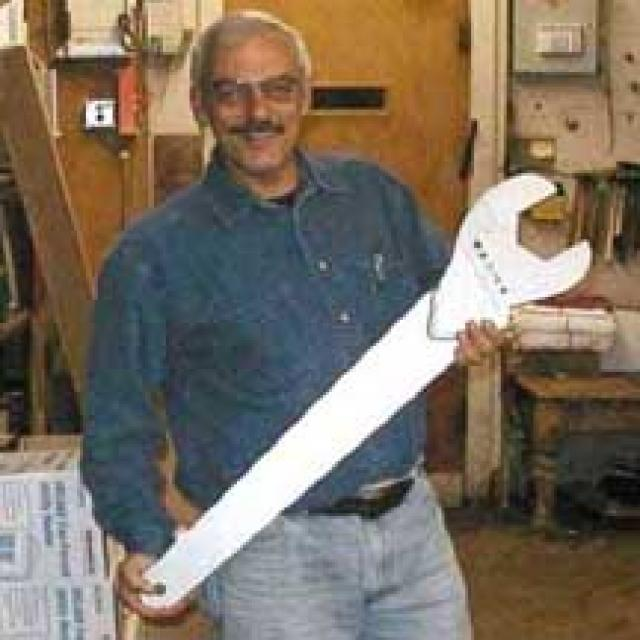wrench: (128, 166, 600, 620)
